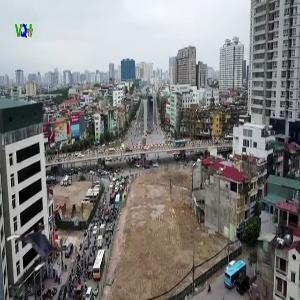drone: (10, 217, 68, 275)
